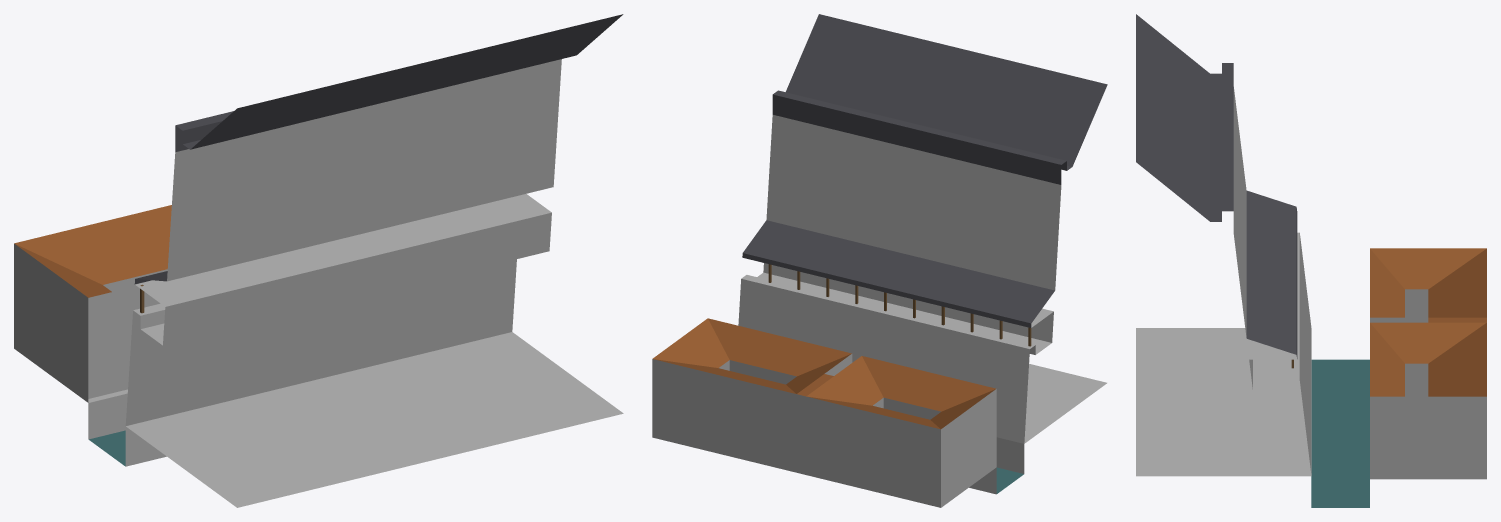
3 renders of one model, left to right at view 1: azimuth 30°, elevation 25°; view 2: azimuth 150°, elevation 25°; view 3: azimuth 270°, elevation 25°, orthographic. The views are drawn at different scales.
Parts seen in each view (by area): view 1: 22cc; view 2: 22cc; view 3: 22cc.
Boxes of the visible parts, bbox=[...] form: 22cc: bbox=[14, 14, 623, 507]; 22cc: bbox=[652, 14, 1107, 507]; 22cc: bbox=[1136, 14, 1486, 507].
Bounding box in the file's own units: 30 × 32.63 × 30.
